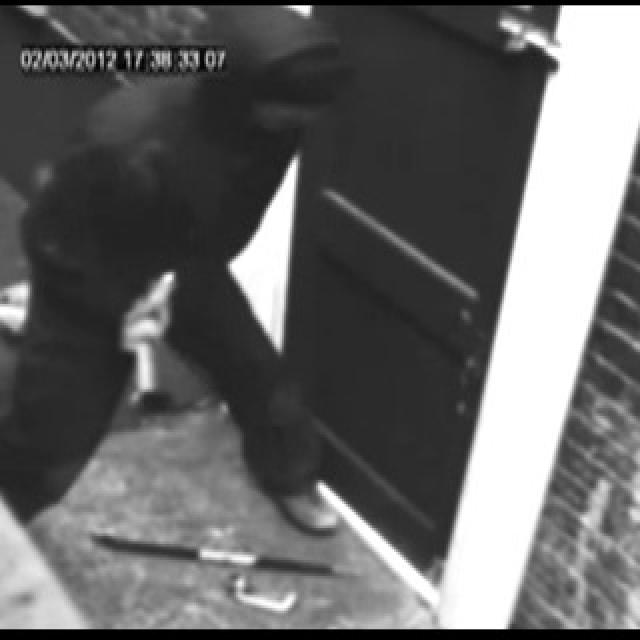thief: (155, 0, 356, 184)
